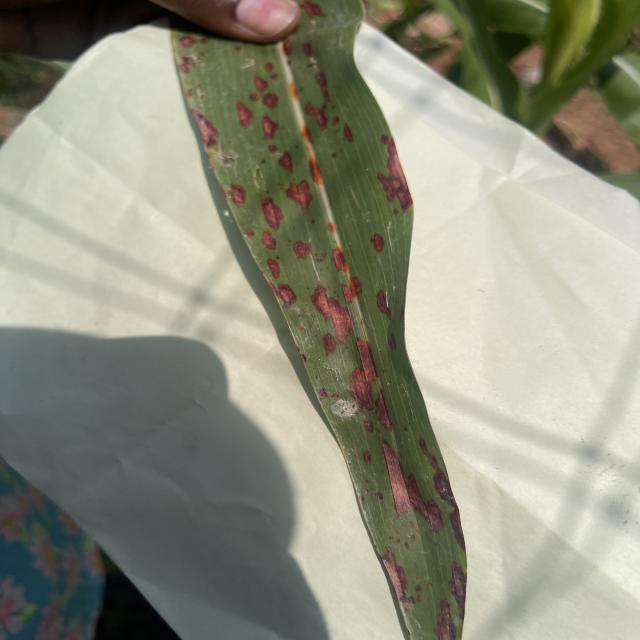millet_rust: (167, 47, 473, 640)
